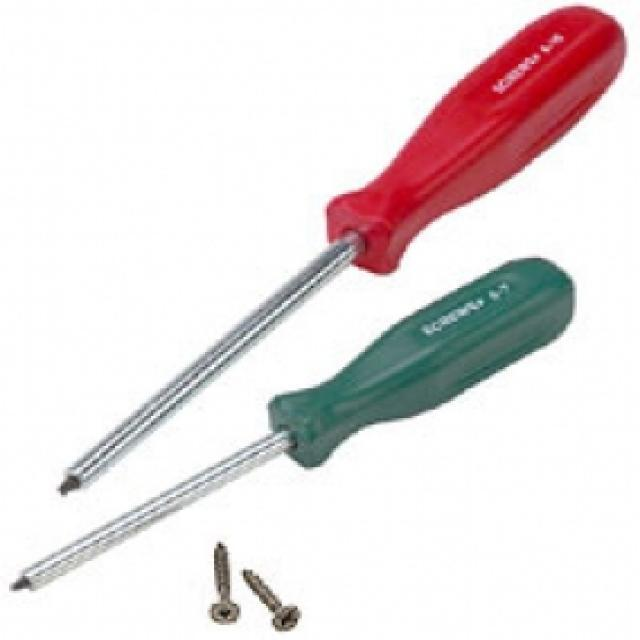screwdriver: (45, 0, 630, 497), (0, 258, 597, 627)
